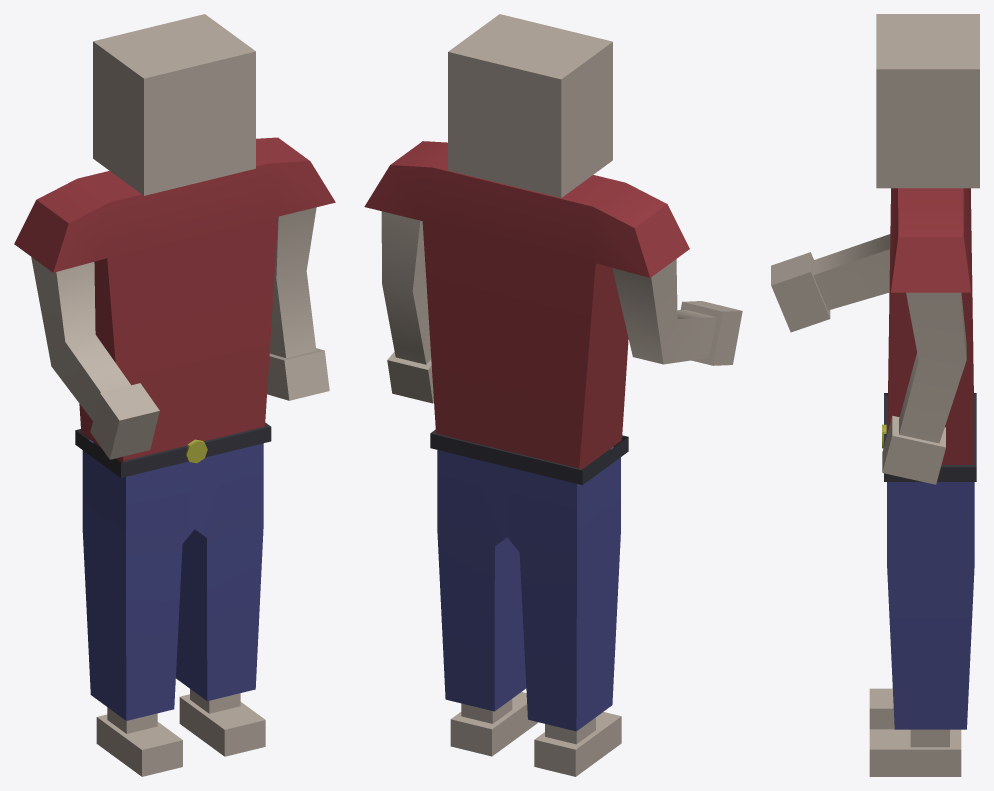
Rendered from PlayerFinished.fbx.
The picture shows the model from 3 angles, left to right: view 1: azimuth 30°, elevation 25°; view 2: azimuth 150°, elevation 25°; view 3: azimuth 270°, elevation 25°; orthographic projection.
Parts seen in each view (by area): view 1: Player; view 2: Player; view 3: Player.
Part boxes in pixels (x1,y1,x2,y2): Player: (14, 14, 335, 776); Player: (364, 14, 742, 776); Player: (771, 14, 979, 776).
Bounding box in the file's own units: 75.65 × 178 × 47.73.
